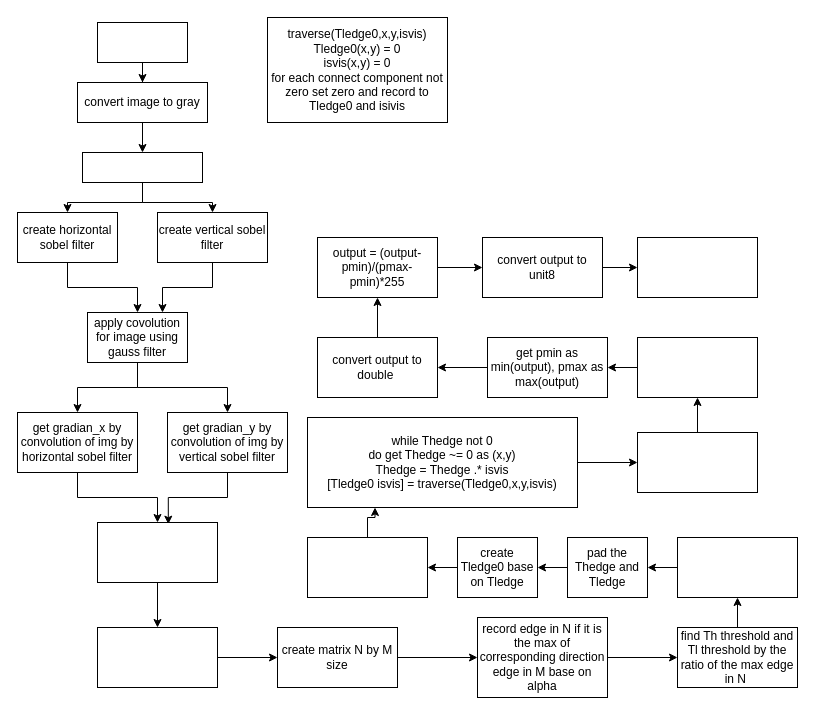
Image size: 815x715. Some labels were removed from this diagram. Here are the shapes that lost their labels. From the top down, the box of each, then its label:
(96, 22, 188, 62): read image
(82, 152, 202, 182): create gauss filter
(636, 236, 758, 298): convert to binary image by setting threshold
(636, 336, 758, 398): remove output padding
(636, 432, 758, 492): output = Tledge - Tledge0
(96, 522, 218, 582): get edge matrix M by getting root of square sum of two gradian matrix
(306, 536, 428, 598): create isvis ones matrix record trace base on Thedge
(676, 536, 798, 598): create Thedge and Tledge by applying threshold on M
(96, 626, 218, 688): get alpha as the arctan of gradian_y ./ gradian_x
